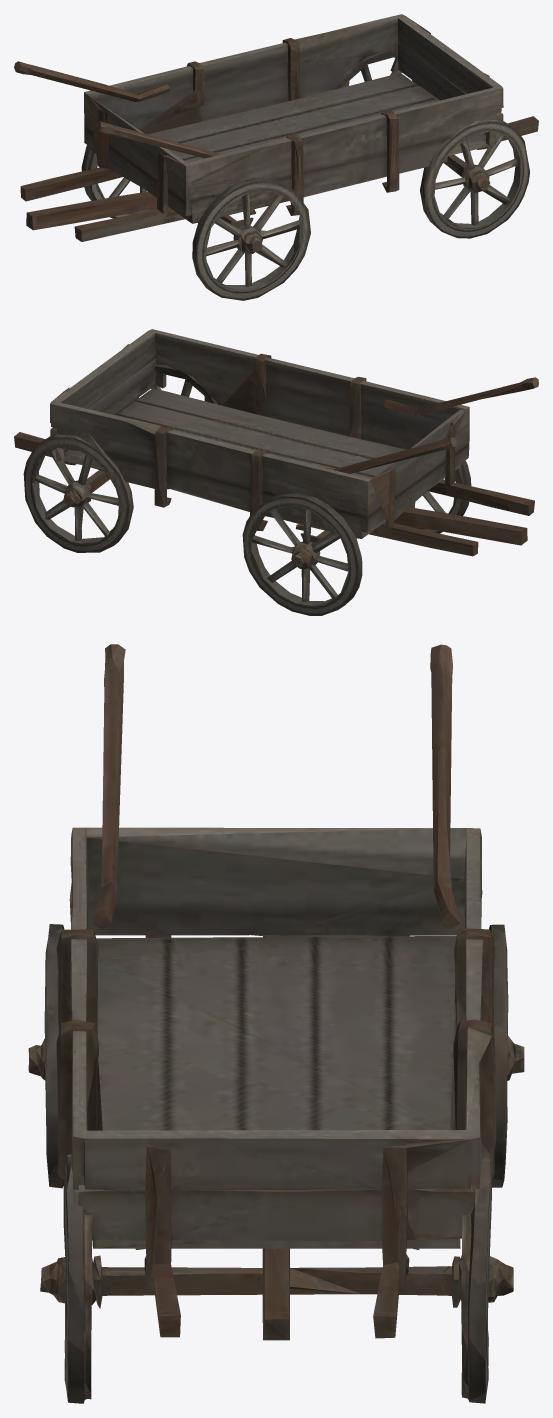
Rendered from Wooden_Cart.glb.
The picture shows the model from 3 angles, top to bottom: view 1: azimuth 30°, elevation 25°; view 2: azimuth 150°, elevation 25°; view 3: azimuth 270°, elevation 25°; orthographic projection. The views are drawn at different scales.
Size of the model in its own units: 1.9 by 0.7548 by 0.8504.
1 material, 1 textured.
